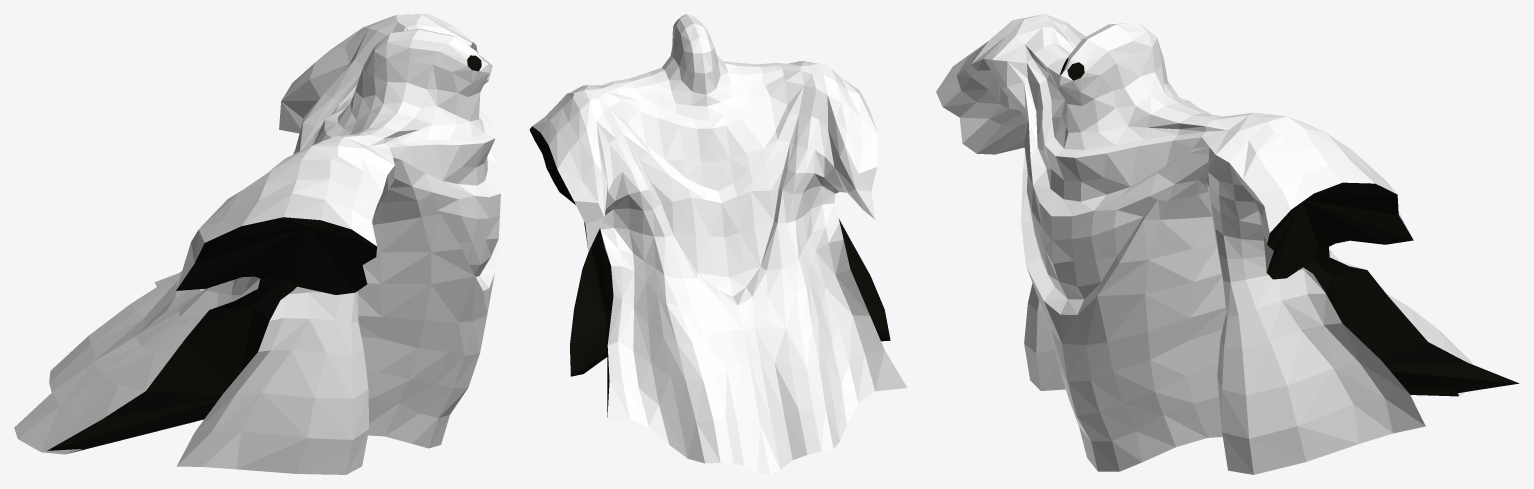
File: lavaballoon-lod0.glb
The picture shows the model from 3 angles, left to right: view 1: azimuth 30°, elevation 25°; view 2: azimuth 150°, elevation 25°; view 3: azimuth 270°, elevation 25°; orthographic projection. The views are drawn at different scales.
Visible parts, largest first — view 1: Ghost; view 2: Ghost; view 3: Ghost.
Part boxes in pixels (x1,y1,x2,y2): Ghost: (14, 14, 500, 474); Ghost: (529, 14, 907, 474); Ghost: (936, 14, 1519, 474).
Size of the model in its own units: 6.35 by 5.61 by 6.34.
Materials: 1 (1 with a texture image).
